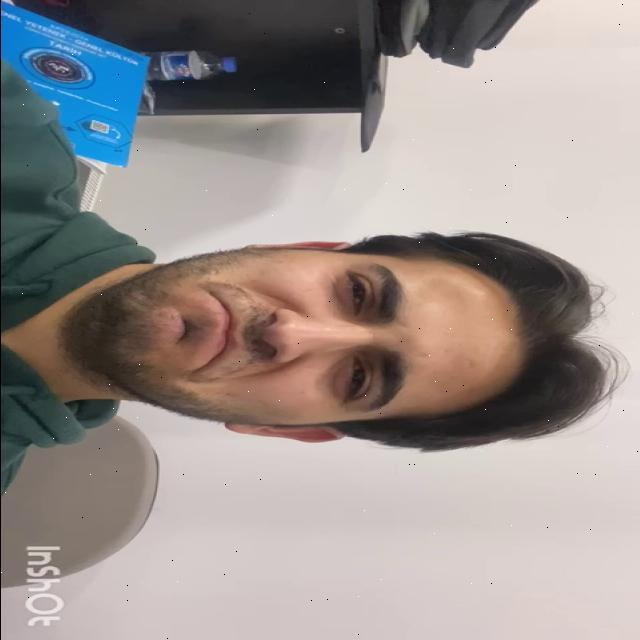sad: (113, 242, 521, 436)
